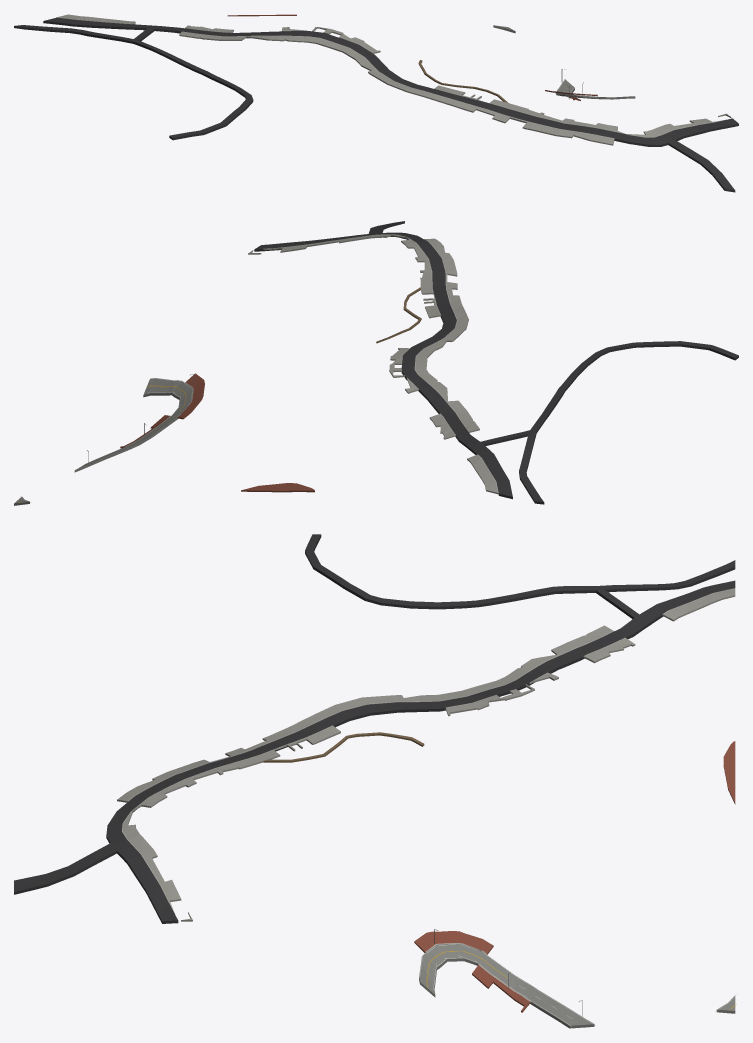
3 views of the same model, one above another, from view 1: azimuth 30°, elevation 25°; view 2: azimuth 150°, elevation 25°; view 3: azimuth 270°, elevation 25° (orthographic). The views are drawn at different scales.
Size of the model in its own units: 294 by 84.02 by 293.
